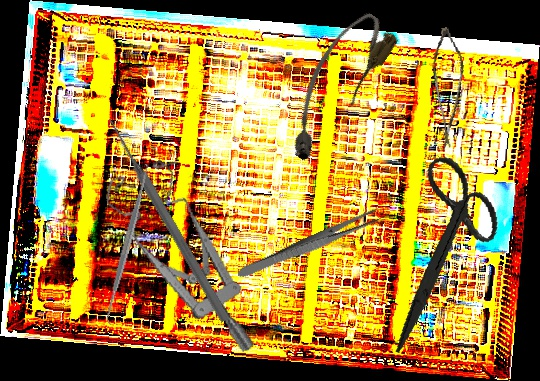Cannula: (268, 4, 403, 168)
Dressing Forceps: (235, 206, 384, 283)
Iris Scissors: (360, 148, 520, 354)
Micro Scissor: (418, 25, 481, 152)
Pusher: (103, 115, 233, 324)
Spatula Surgical: (96, 162, 159, 327)
Speculum: (101, 149, 255, 372)
